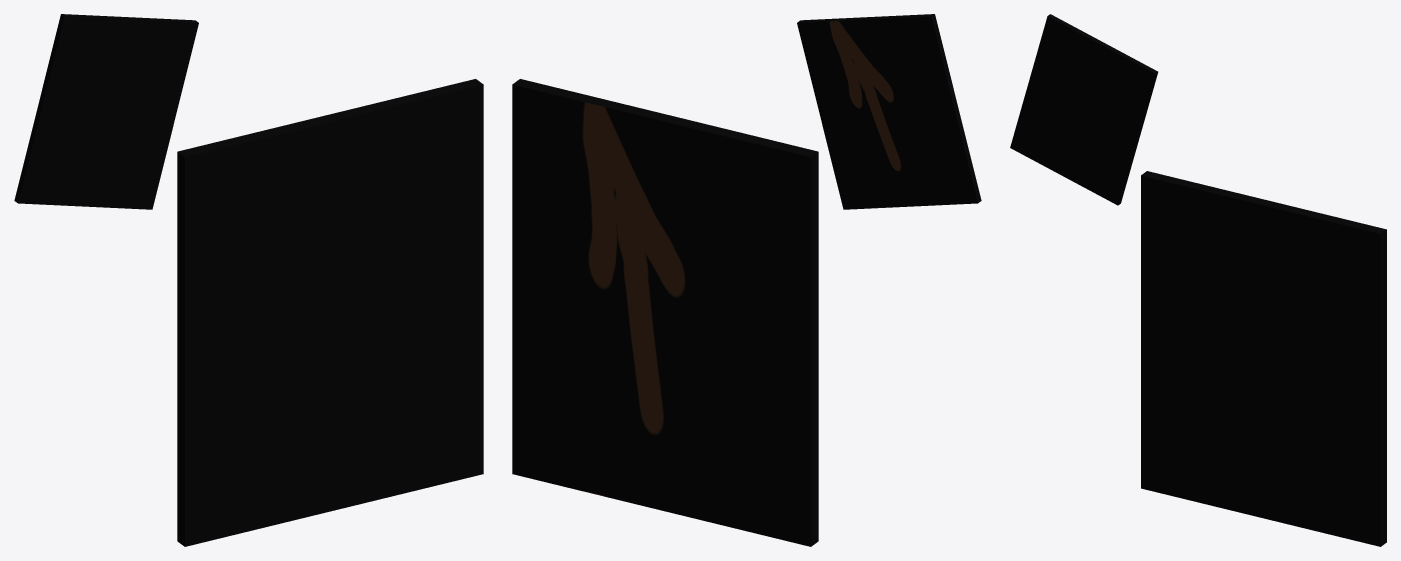
Rendered from paintings.glb.
3 views of the same model, side by side, from view 1: azimuth 30°, elevation 25°; view 2: azimuth 150°, elevation 25°; view 3: azimuth 330°, elevation 25° (orthographic). The views are drawn at different scales.
Visible parts, largest first — view 1: Cube.031, картинка.002; view 2: Cube.031, картинка.002; view 3: Cube.031, картинка.002.
Part boxes in pixels (x1=…): Cube.031: x1=177, y1=79, x2=483, y2=546; картинка.002: x1=14, y1=14, x2=198, y2=209; Cube.031: x1=512, y1=79, x2=818, y2=546; картинка.002: x1=797, y1=14, x2=981, y2=209; Cube.031: x1=1141, y1=171, x2=1386, y2=546; картинка.002: x1=1010, y1=14, x2=1158, y2=205.
Size of the model in its own units: 2.65 by 3.05 by 0.0768.
1 material, 1 textured.
